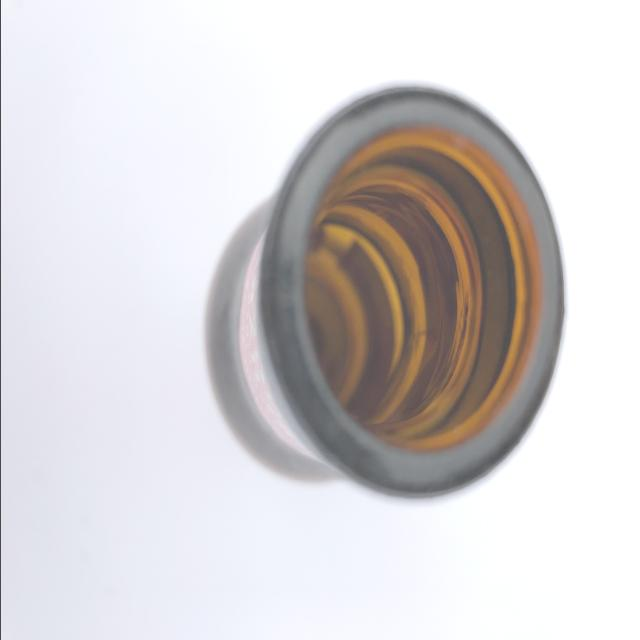Glass: (197, 69, 581, 518)
